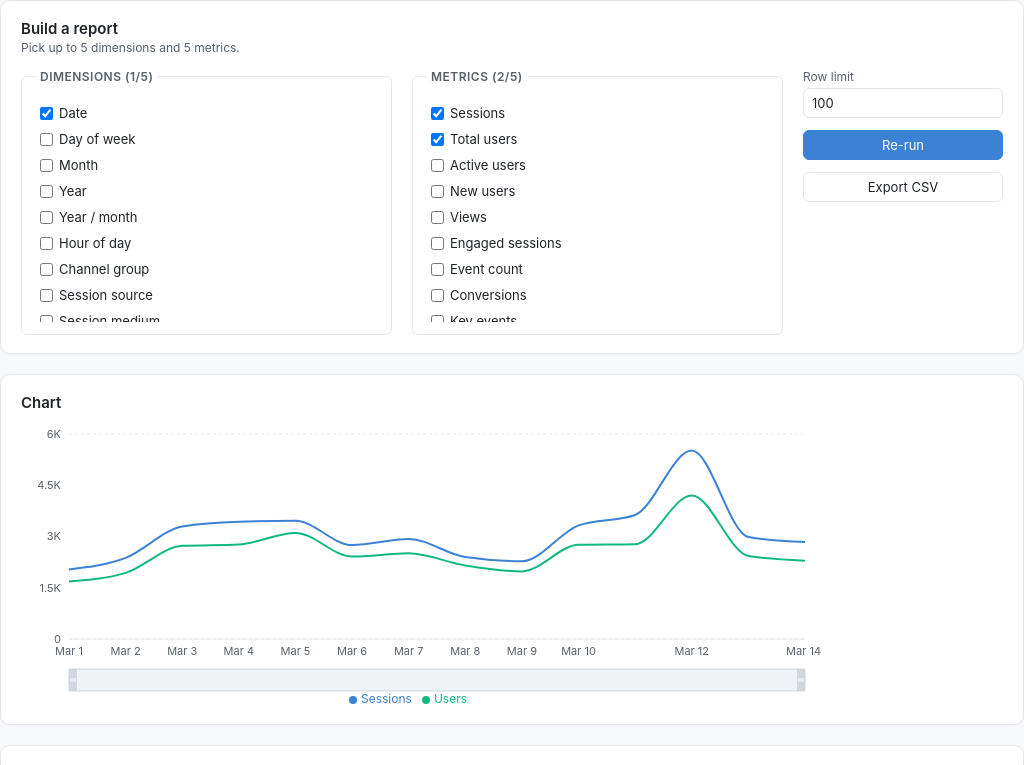
Scenario: ExplorePage › clamps the row limit on blur and falls back to the default when blank
Replace the text in the number field labelled "Row limit" with "99999". click: (903, 103)
box: [803,88,1003,118]
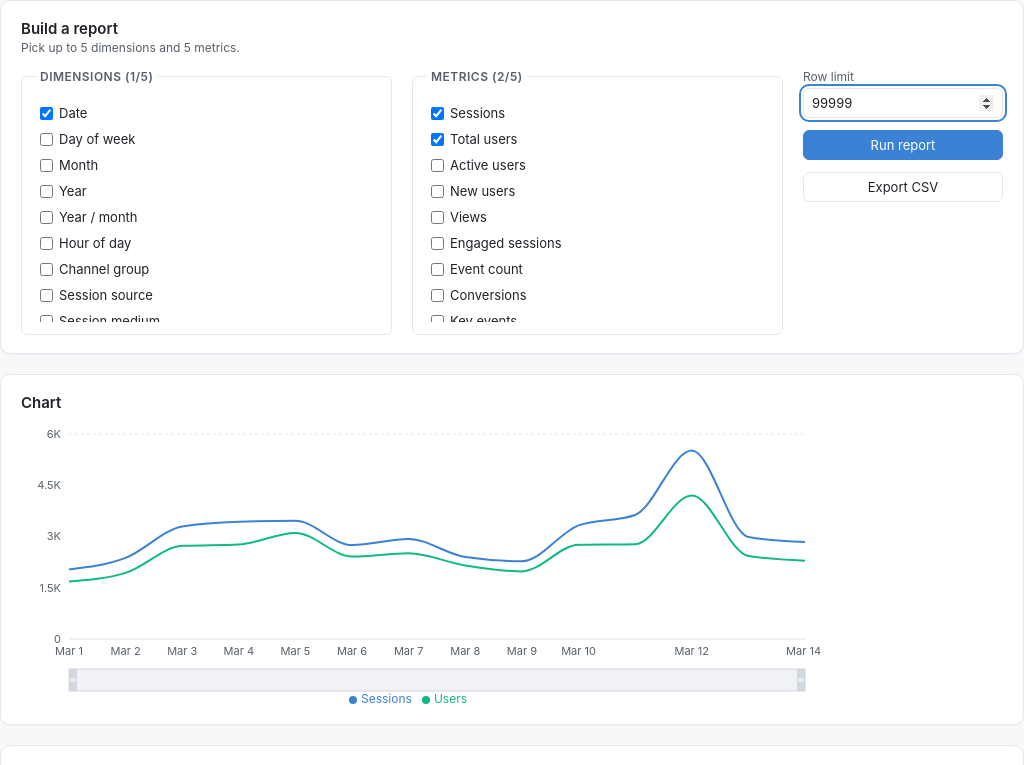
Press Tab
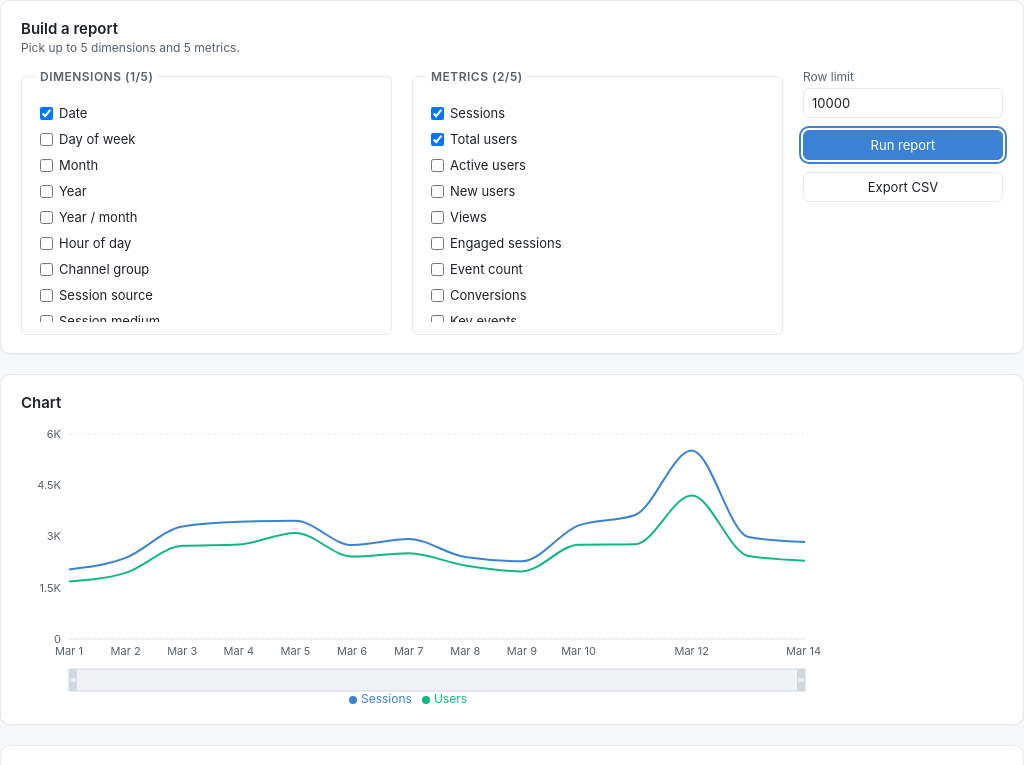
Check: the number field labelled "Row limit" holds "10000"
Replace the text in the number field labelled "Row limit" with "0". click: (903, 103)
box: [803,88,1003,118]
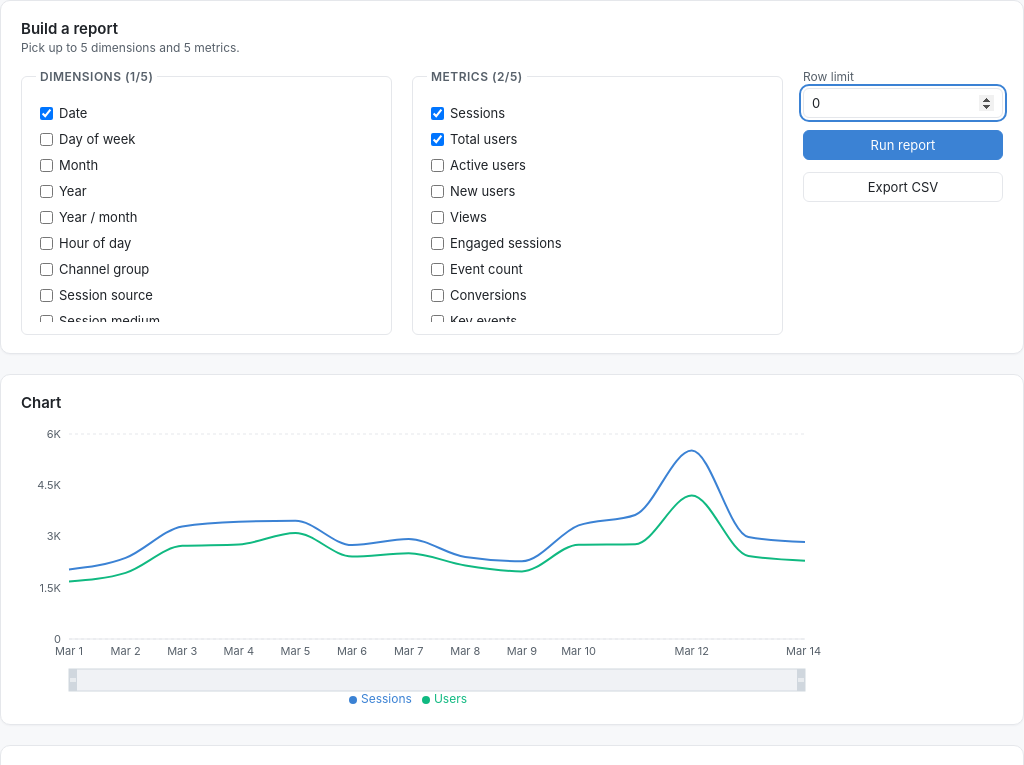
Press Tab
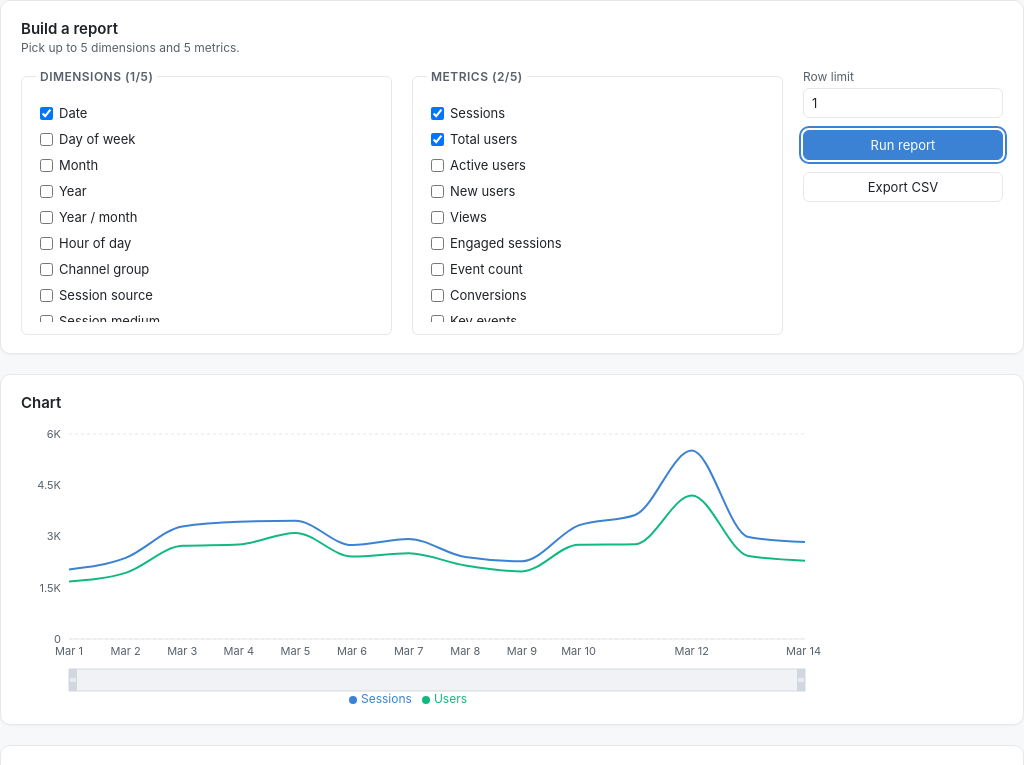
Check: the number field labelled "Row limit" holds "1"
Clear the number field labelled "Row limit". click: (903, 103)
box: [803,88,1003,118]
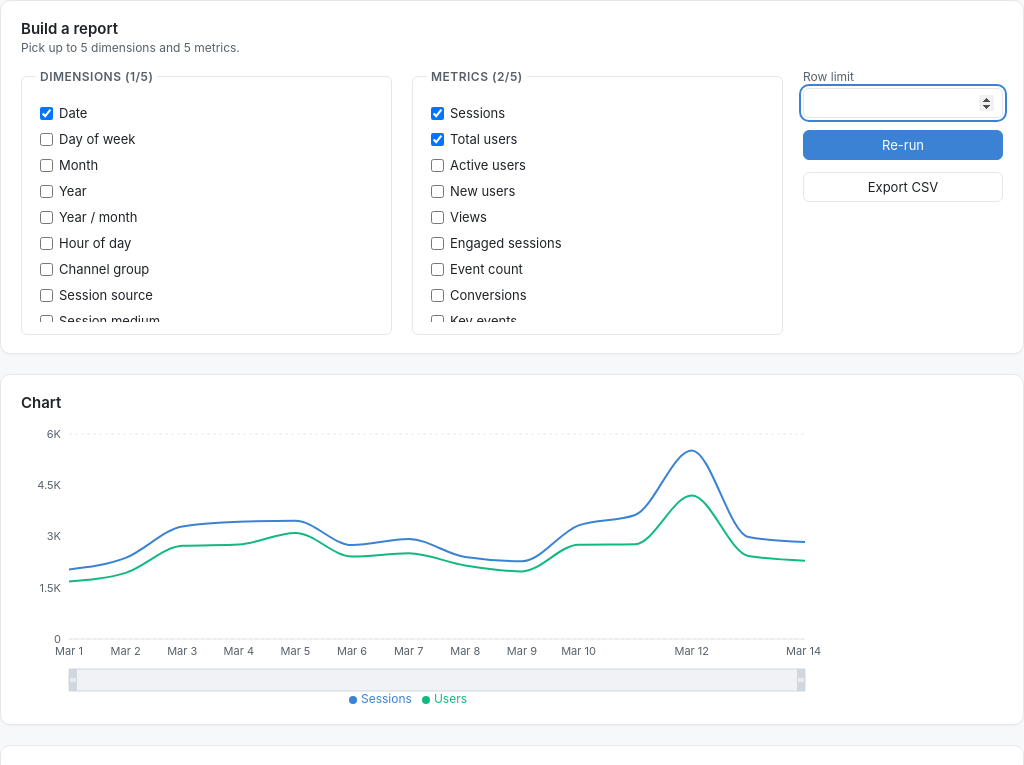
Press Tab
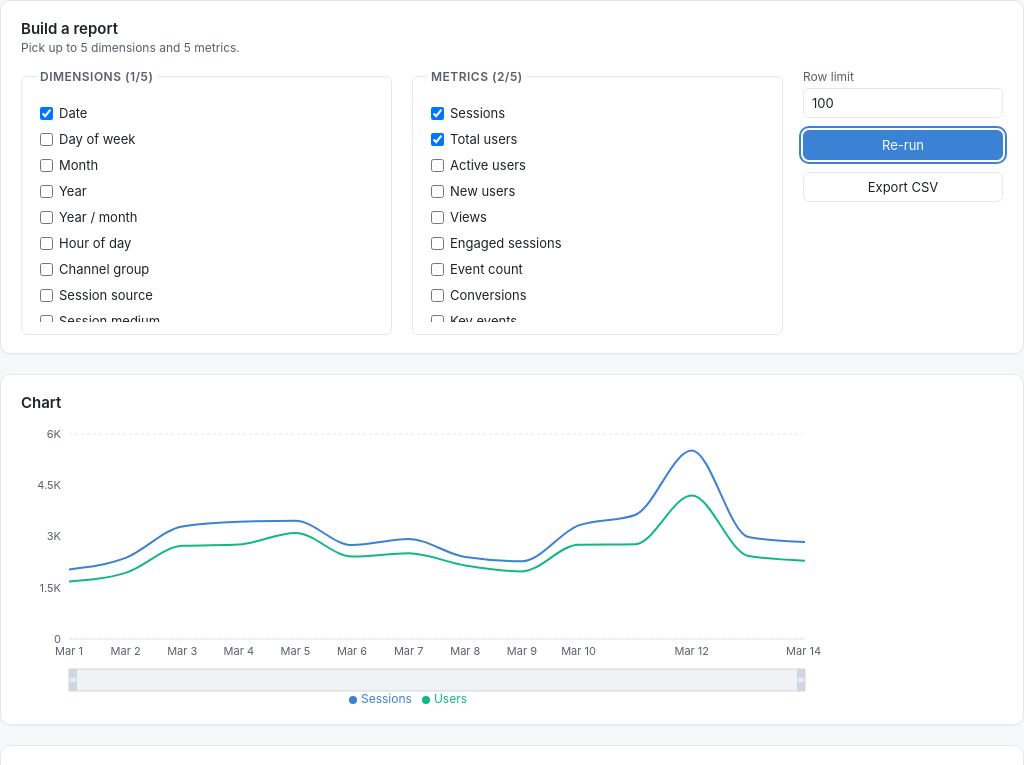
Check: the number field labelled "Row limit" holds "100", box [803,88,1003,118]
